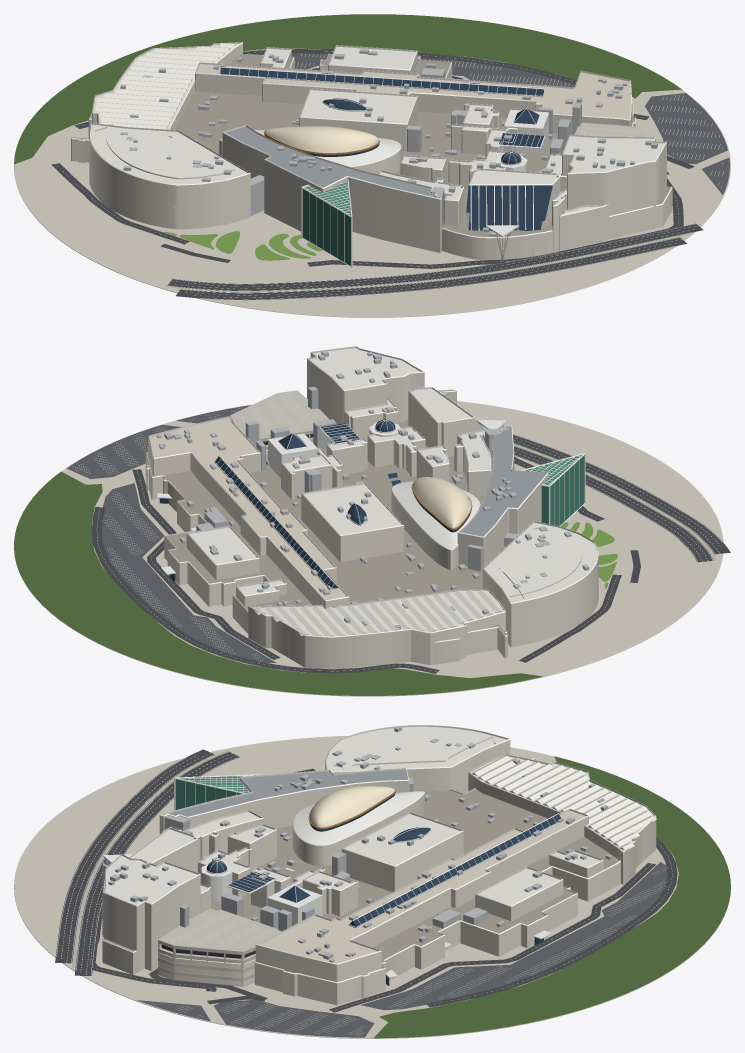
Rendered from iguatemi-shopping.glb.
3 views of the same model, one above another, from view 1: azimuth 30°, elevation 25°; view 2: azimuth 150°, elevation 25°; view 3: azimuth 270°, elevation 25° (orthographic).
Visible parts, largest first — view 1: Chao_Calcada, Chao_Mata_Coco, Ruas_Asfalto, Ala_Curva_Fachadas, Embasamento_Telhado, Rotunda_Oeste_Fachadas, Telhado_Maquinas, Estacionamento_Piso, Miolo_Fachadas, Bloco_Norte_Sheds, Rotunda_Oeste_Telhado, Espinha_Telhado (+35 smaller); view 2: Chao_Calcada, Chao_Mata_Coco, Embasamento_Telhado, Ruas_Asfalto, Estacionamento_Piso, Miolo_Fachadas, Telhado_Maquinas, Bloco_Norte_Fachadas, Espinha_Telhado, Bloco_Norte_Sheds, Rotunda_Oeste_Telhado, Embasamento_Fachadas (+31 smaller); view 3: Chao_Calcada, Chao_Mata_Coco, Ruas_Asfalto, Estacionamento_Piso, Embasamento_Fachadas, Embasamento_Telhado, Telhado_Maquinas, Espinha_Fachadas, Miolo_Fachadas, Bloco_Norte_Sheds, Espinha_Telhado, Rotunda_Oeste_Telhado (+32 smaller).
Boxes of the visible parts, bbox=[...] form: Chao_Calcada: bbox=[14, 48, 730, 317]; Chao_Mata_Coco: bbox=[14, 14, 681, 164]; Ruas_Asfalto: bbox=[51, 49, 703, 300]; Ala_Curva_Fachadas: bbox=[222, 133, 441, 252]; Embasamento_Telhado: bbox=[80, 55, 670, 236]; Rotunda_Oeste_Fachadas: bbox=[89, 139, 250, 229]; Telhado_Maquinas: bbox=[108, 48, 657, 236]; Estacionamento_Piso: bbox=[258, 53, 729, 194]; Miolo_Fachadas: bbox=[260, 50, 609, 252]; Bloco_Norte_Sheds: bbox=[95, 43, 235, 129]; Rotunda_Oeste_Telhado: bbox=[90, 124, 247, 184]; Espinha_Telhado: bbox=[197, 64, 630, 119]; Chao_Calcada: bbox=[14, 401, 723, 696]; Chao_Mata_Coco: bbox=[14, 471, 543, 695]; Embasamento_Telhado: bbox=[147, 419, 505, 635]; Ruas_Asfalto: bbox=[92, 434, 730, 673]; Estacionamento_Piso: bbox=[66, 405, 276, 662]; Miolo_Fachadas: bbox=[186, 391, 491, 606]; Telhado_Maquinas: bbox=[156, 350, 589, 628]; Bloco_Norte_Fachadas: bbox=[248, 606, 505, 669]; Espinha_Telhado: bbox=[149, 418, 346, 599]; Bloco_Norte_Sheds: bbox=[254, 590, 503, 636]; Rotunda_Oeste_Telhado: bbox=[484, 522, 597, 602]; Embasamento_Fachadas: bbox=[145, 450, 507, 664]; Chao_Calcada: bbox=[14, 736, 729, 1038]; Chao_Mata_Coco: bbox=[373, 756, 730, 1038]; Ruas_Asfalto: bbox=[55, 749, 677, 1012]; Estacionamento_Piso: bbox=[137, 862, 667, 1037]; Embasamento_Fachadas: bbox=[102, 758, 620, 1005]; Embasamento_Telhado: bbox=[103, 789, 619, 975]; Telhado_Maquinas: bbox=[108, 726, 612, 962]; Espinha_Fachadas: bbox=[255, 816, 588, 982]; Miolo_Fachadas: bbox=[102, 818, 603, 934]; Bloco_Norte_Sheds: bbox=[471, 755, 656, 849]; Espinha_Telhado: bbox=[259, 810, 585, 963]; Rotunda_Oeste_Telhado: bbox=[326, 726, 506, 771].
Size of the model in its own units: 66.6 by 7.15 by 66.6.
